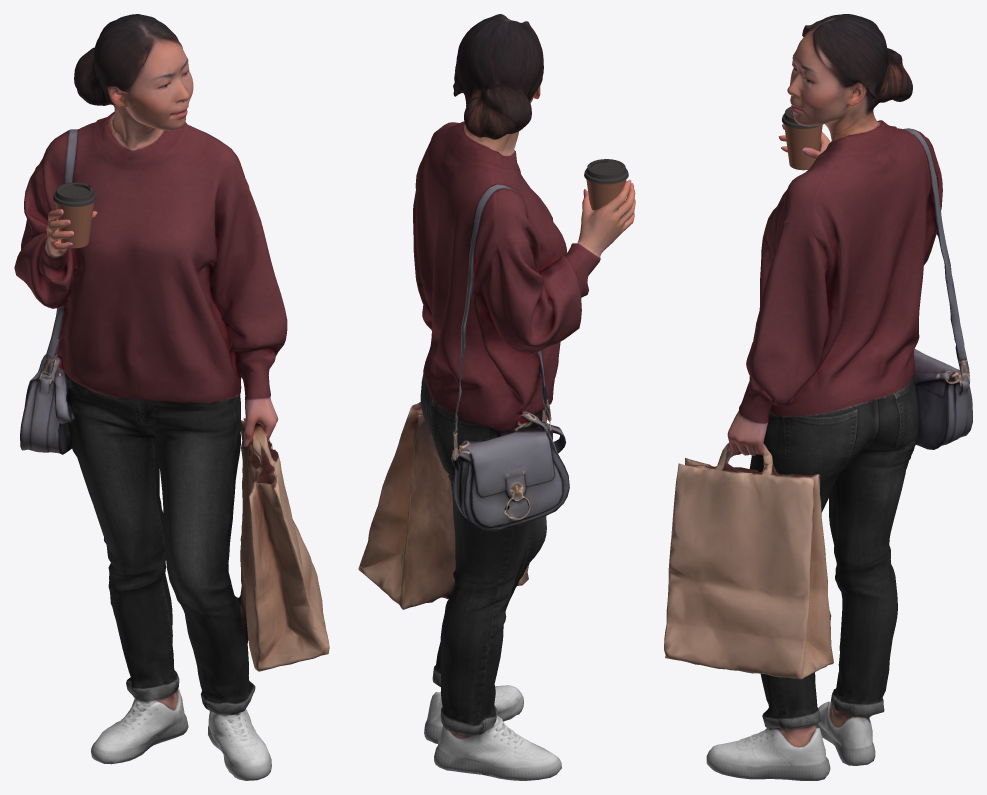
File: Humano_Posed_0835341-Woman_04_LOD1.fbx
3 renders of one model, left to right at view 1: azimuth 30°, elevation 25°; view 2: azimuth 150°, elevation 25°; view 3: azimuth 270°, elevation 25°, orthographic. The views are drawn at different scales.
Visible parts, largest first — view 1: Humano_Posed_0835341-Woman_04_LOD1, Humano_Posed_0835341-Woman_Accessories-01_04_LOD1; view 2: Humano_Posed_0835341-Woman_04_LOD1, Humano_Posed_0835341-Woman_Accessories-01_04_LOD1; view 3: Humano_Posed_0835341-Woman_04_LOD1, Humano_Posed_0835341-Woman_Accessories-01_04_LOD1.
Boxes of the visible parts, left/top/right/bottom form: Humano_Posed_0835341-Woman_04_LOD1: left=14, top=14, right=329, bottom=780; Humano_Posed_0835341-Woman_Accessories-01_04_LOD1: left=53, top=182, right=96, bottom=248; Humano_Posed_0835341-Woman_04_LOD1: left=358, top=14, right=635, bottom=780; Humano_Posed_0835341-Woman_Accessories-01_04_LOD1: left=584, top=159, right=628, bottom=210; Humano_Posed_0835341-Woman_04_LOD1: left=664, top=14, right=972, bottom=780; Humano_Posed_0835341-Woman_Accessories-01_04_LOD1: left=782, top=106, right=822, bottom=170.
Size of the model in its own units: 63.07 by 164 by 63.38.
Materials: 2 (2 with a texture image).
